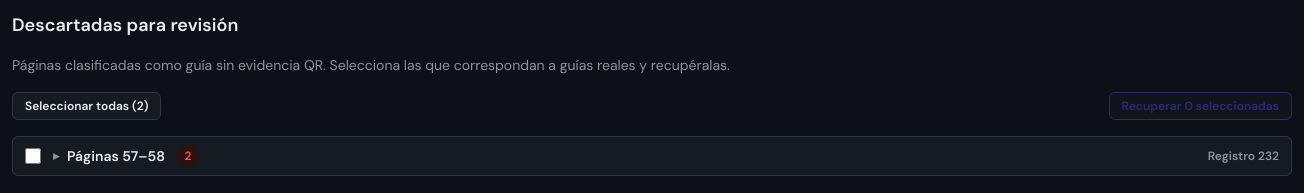
Test: DescartadasTab — A4 mount re-attach › does not poll after mount when the status is the terminal no-batch shape
Click the button with class "descartadas-tab__select-all" at point(87, 106), box [12,92,161,120]
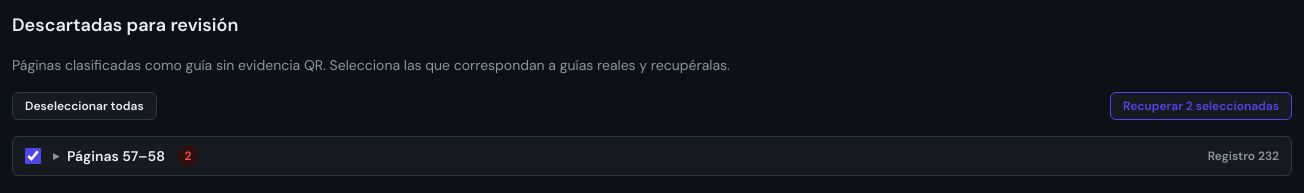
Result: the button with class "descartadas-tab__bulk-btn" is enabled at [1110,92,1292,120]
